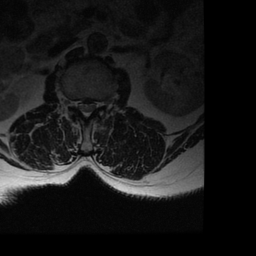CCS_normal: (83, 94, 90, 123)
LFS_stenosis: (98, 93, 106, 113)
LLS_stenosis: (91, 93, 98, 116)
RFS_normal: (68, 92, 75, 113)
RLS_normal: (75, 93, 83, 116)
